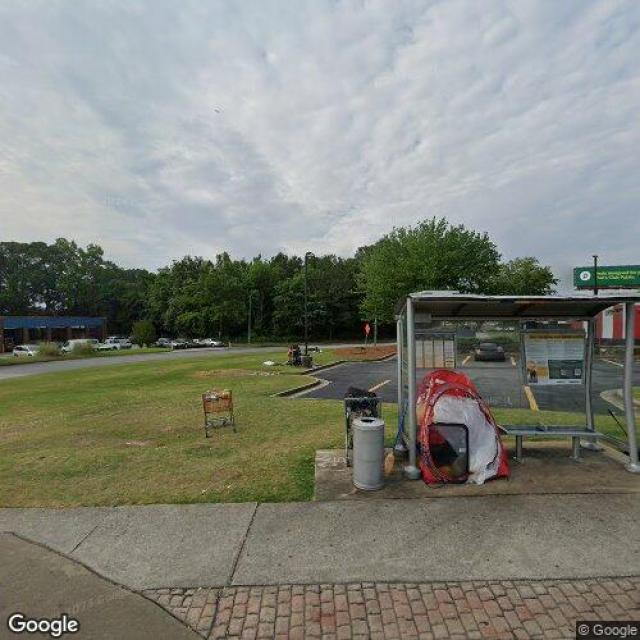seating: (503, 422, 602, 464)
shelter: (396, 293, 640, 483)
trash_can: (349, 416, 386, 493)
